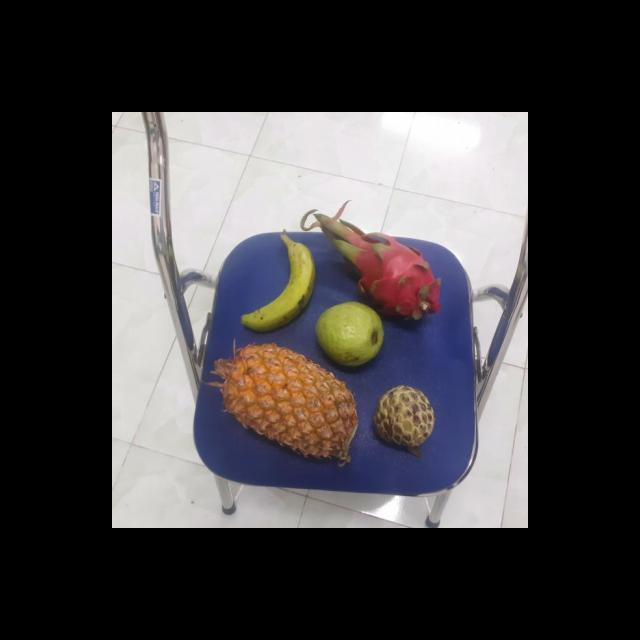Sakya fruit: (370, 386, 434, 451)
banana: (236, 236, 318, 335)
guava: (311, 300, 385, 369)
pineapple: (214, 343, 358, 463)
pitaya: (342, 236, 433, 320)
